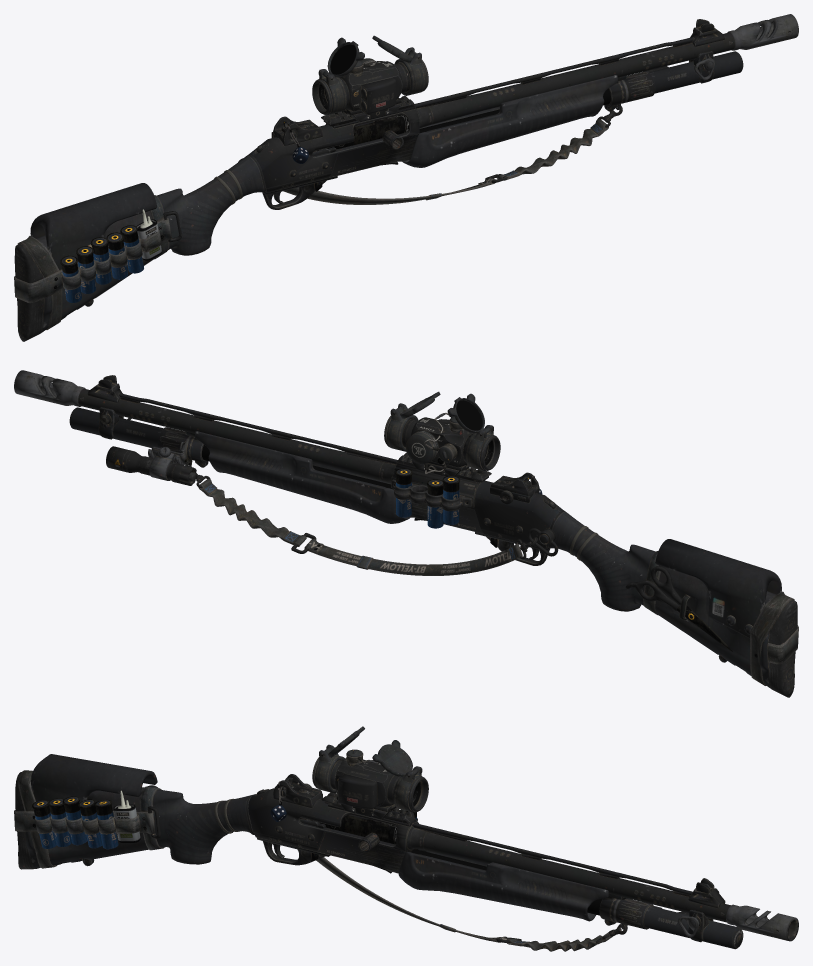
File: shotgun_mv.fbx
3 views of the same model, one above another, from view 1: azimuth 30°, elevation 25°; view 2: azimuth 150°, elevation 25°; view 3: azimuth 330°, elevation 25° (orthographic).
Visible parts, largest first — view 1: Plane.012_Plane.011_0, Cylinder.001_Cylinder.029_0; view 2: Plane.012_Plane.011_0, Cylinder.001_Cylinder.029_0; view 3: Plane.012_Plane.011_0, Cylinder.001_Cylinder.029_0.
Boxes of the visible parts, left/top/right/bottom form: Plane.012_Plane.011_0: left=14, top=14, right=798, bottom=341; Cylinder.001_Cylinder.029_0: left=312, top=35, right=428, bottom=122; Plane.012_Plane.011_0: left=14, top=370, right=798, bottom=697; Cylinder.001_Cylinder.029_0: left=384, top=391, right=500, bottom=476; Plane.012_Plane.011_0: left=14, top=754, right=798, bottom=951; Cylinder.001_Cylinder.029_0: left=312, top=726, right=428, bottom=819.
Bounding box in the file's own units: 17.06 × 4.61 × 1.57.
